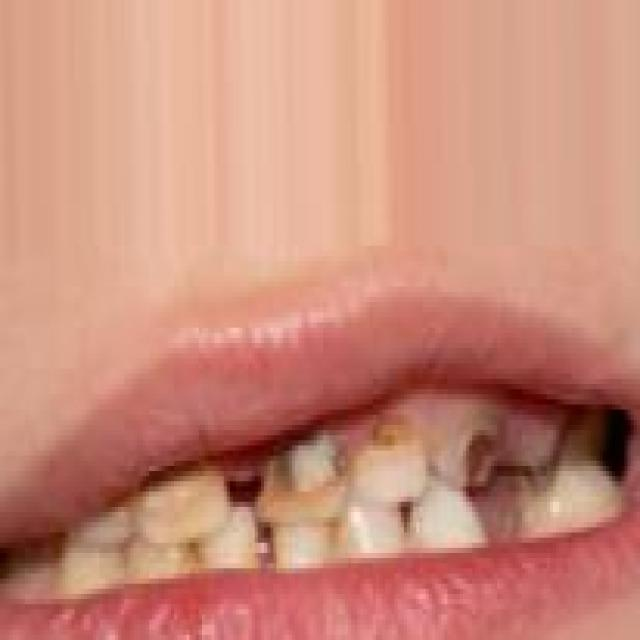caries: (257, 420, 345, 530), (437, 400, 516, 508), (353, 407, 428, 512)
